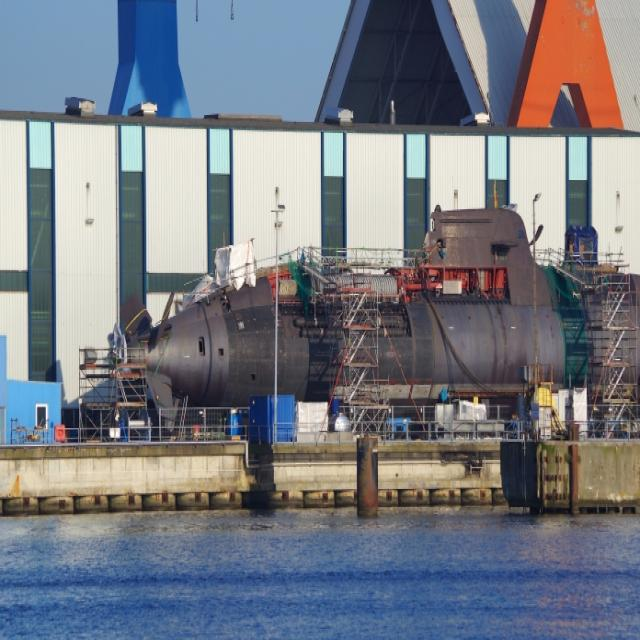submarine: (109, 210, 640, 395)
